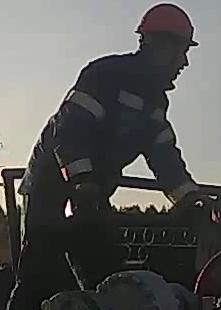helmet: (135, 3, 198, 55)
vest: (48, 59, 169, 206)
